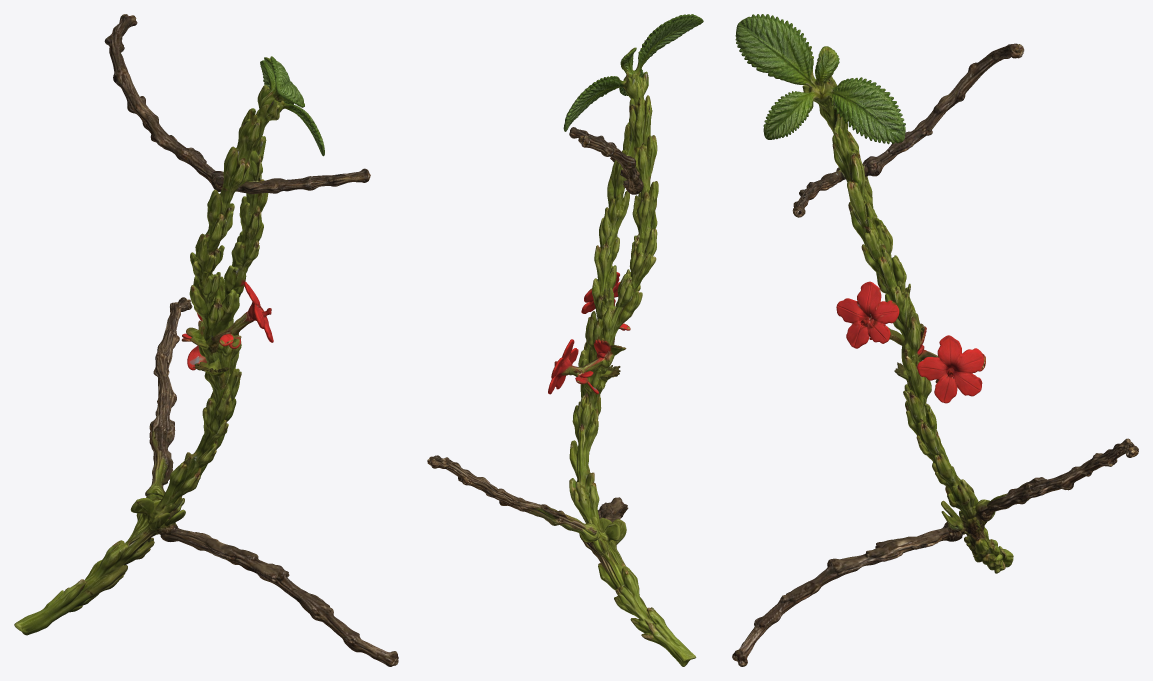
Rendered from stachytarpheta_microphylla.fbx.
The picture shows the model from 3 angles, left to right: view 1: azimuth 30°, elevation 25°; view 2: azimuth 150°, elevation 25°; view 3: azimuth 270°, elevation 25°; orthographic projection. The views are drawn at different scales.
Parts seen in each view (by area): view 1: tripo_node_7ec5f277; view 2: tripo_node_7ec5f277; view 3: tripo_node_7ec5f277.
Boxes of the visible parts, <box> form: tripo_node_7ec5f277: <box>14,14,398,666</box>; tripo_node_7ec5f277: <box>427,14,703,666</box>; tripo_node_7ec5f277: <box>732,14,1138,666</box>.
Size of the model in its own units: 41.53 by 99.89 by 60.13.
1 material, 1 textured.
